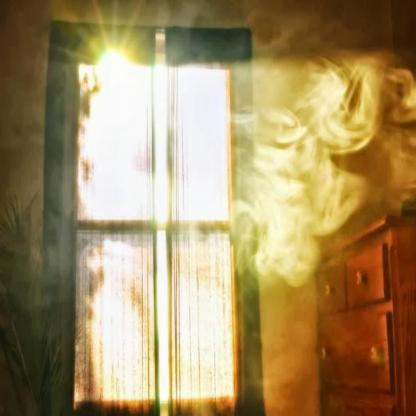other: (88, 35, 153, 133)
